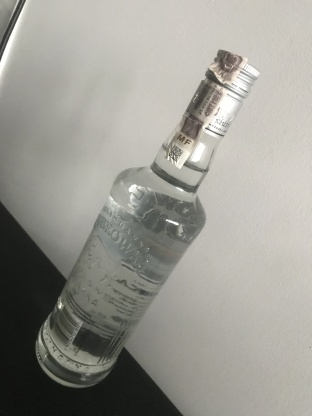nakretka: (182, 47, 261, 140)
